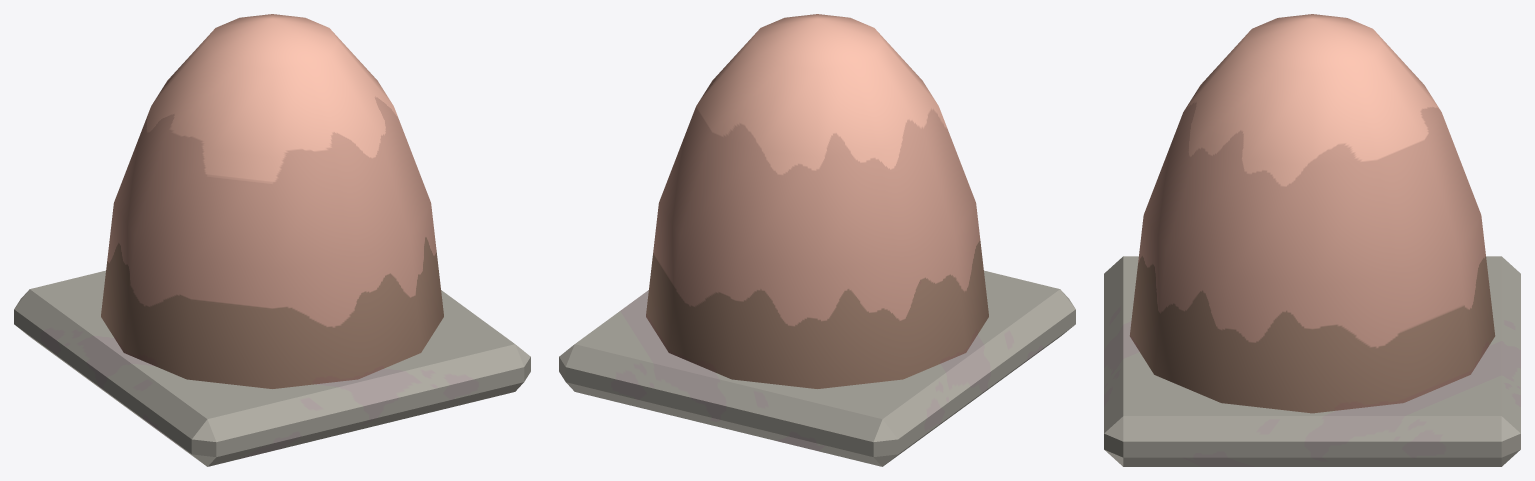
File: R4B_Dome_LOD1.glb
The picture shows the model from 3 angles, left to right: view 1: azimuth 30°, elevation 25°; view 2: azimuth 150°, elevation 25°; view 3: azimuth 270°, elevation 25°; orthographic projection. The views are drawn at different scales.
Visible parts, largest first — view 1: R4B_Dome_LOD1; view 2: R4B_Dome_LOD1; view 3: R4B_Dome_LOD1.
Part boxes in pixels (bbox=[...]): R4B_Dome_LOD1: bbox=[14, 14, 530, 466]; R4B_Dome_LOD1: bbox=[559, 14, 1075, 466]; R4B_Dome_LOD1: bbox=[1104, 14, 1520, 466].
Size of the model in its own units: 0.52 by 0.506 by 0.52.
Materials: 2 (2 with a texture image).
